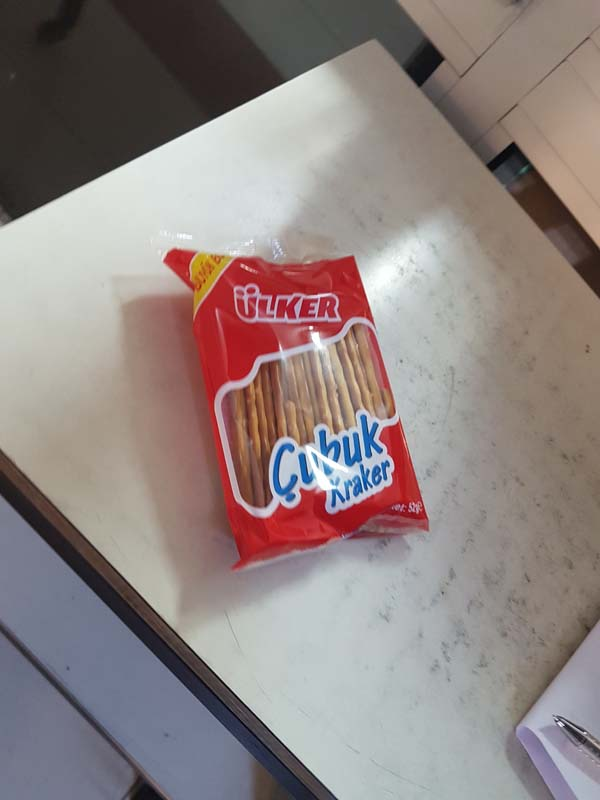eticubuk: (167, 248, 425, 548)
